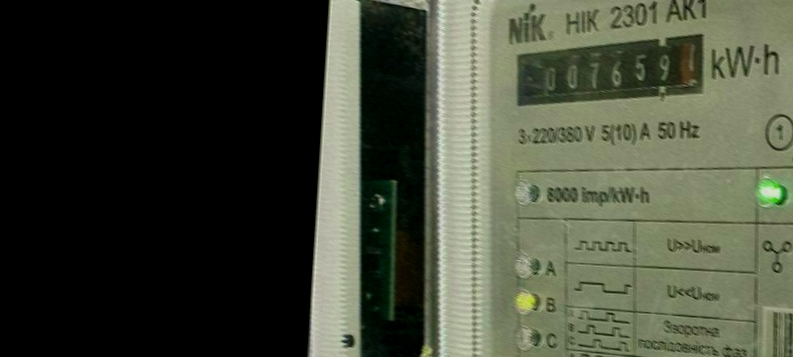0: (546, 64, 561, 92), (567, 63, 582, 91)
1: (686, 43, 700, 75)
5: (634, 52, 650, 85)
6: (611, 58, 626, 89)
7: (588, 58, 604, 91)
9: (658, 51, 675, 85)
screen: (502, 16, 728, 125)
